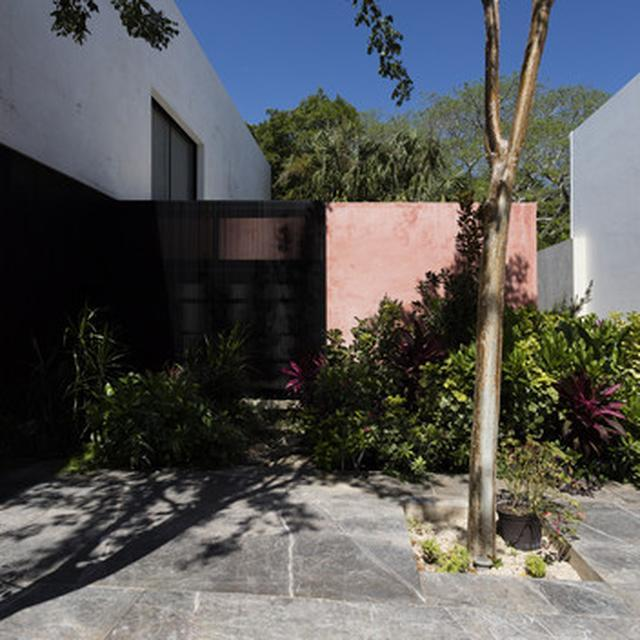building: (3, 0, 540, 413)
